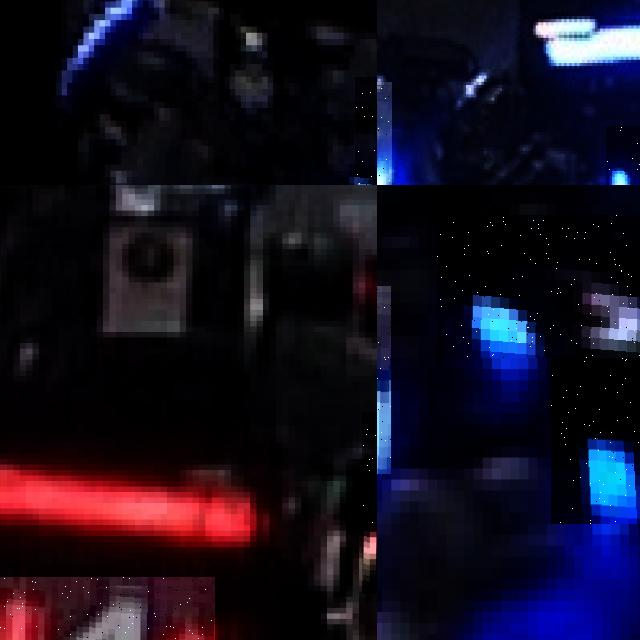B3: (437, 214, 640, 358), (551, 358, 640, 523)
R4: (0, 577, 215, 640)
